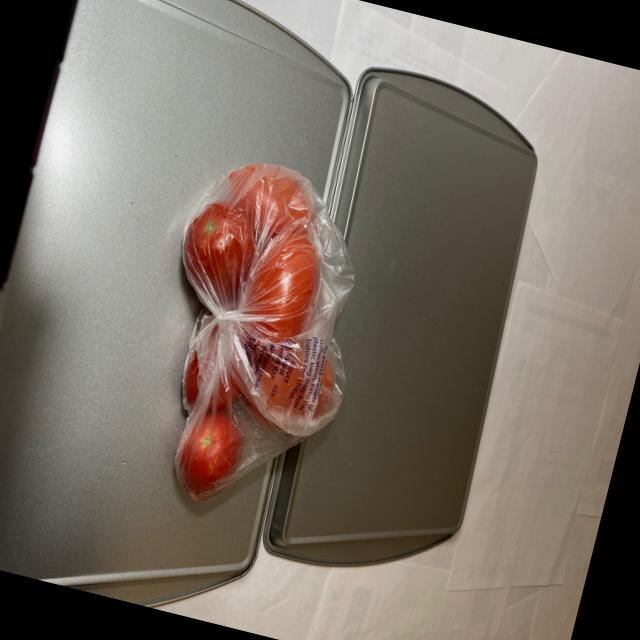tomato: (124, 145, 389, 528)
